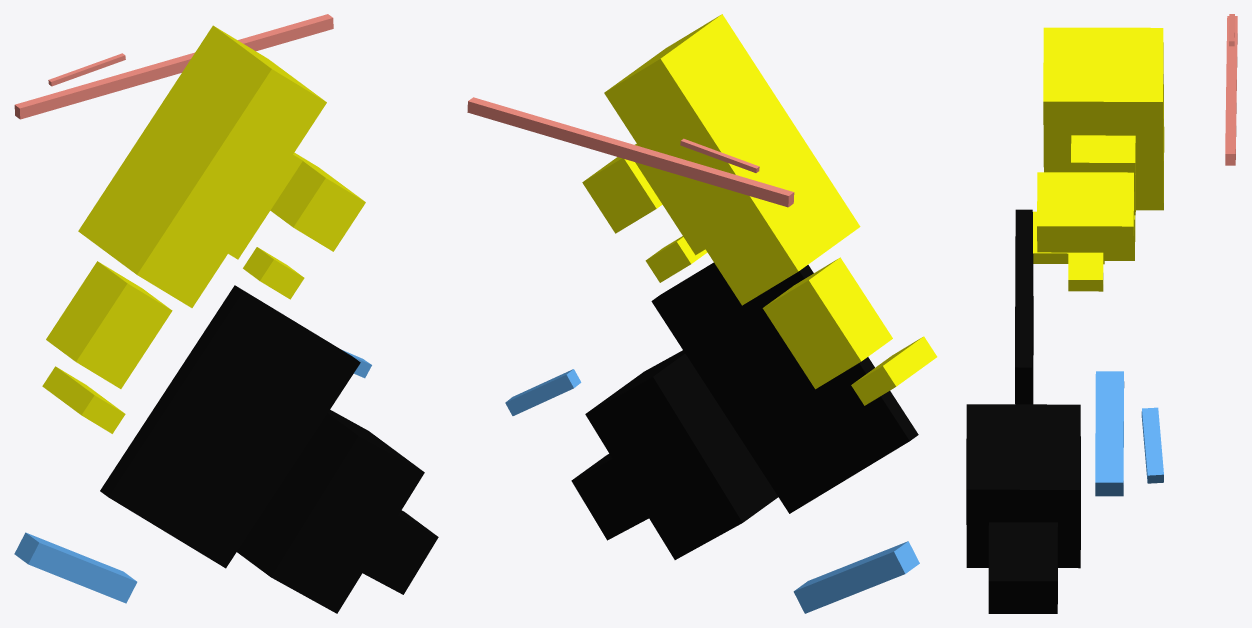
Rendered from malevitch_v5.glb.
3 views of the same model, side by side, from view 1: azimuth 30°, elevation 25°; view 2: azimuth 150°, elevation 25°; view 3: azimuth 270°, elevation 25° (orthographic). The views are drawn at different scales.
Parts seen in each view (by area): view 1: Noir, jaune_big, Noir.1, jaune_big.3, jaune_big.2, Rouge_dessous, Bleu, Noir.2, jaune_big.4, jaune_big.5, jaune_big.1, Rouge_dessus; view 2: jaune_big, Noir, Noir.1, jaune_big.3, Rouge_dessous, Bleu, jaune_big.2, Noir.2, jaune_big.4, Bleu.1, jaune_big.5, jaune_big.1 (+1 smaller); view 3: jaune_big, Noir.1, jaune_big.2, Noir.2, Noir, Bleu, jaune_big.1, Rouge_dessous, jaune_big.5, Bleu.1, jaune_big.4.
Part boxes in pixels (box(x1,y1,x2,y2)): Noir: box(100, 285, 360, 568); jaune_big: box(78, 25, 326, 307); Noir.1: box(237, 409, 424, 613); jaune_big.3: box(46, 261, 172, 388); jaune_big.2: box(270, 152, 365, 251); Rouge_dessous: box(14, 14, 333, 119); Bleu: box(14, 532, 137, 603); Noir.2: box(363, 510, 438, 594); jaune_big.4: box(42, 366, 125, 433); jaune_big.5: box(243, 247, 304, 299); jaune_big.1: box(228, 154, 302, 259); Rouge_dessus: box(48, 53, 125, 86); jaune_big: box(604, 14, 860, 305); Noir: box(651, 262, 918, 513); Noir.1: box(585, 350, 778, 559); jaune_big.3: box(762, 257, 892, 389); Rouge_dessous: box(467, 97, 794, 207); Bleu: box(793, 541, 919, 613); jaune_big.2: box(582, 143, 662, 233); Noir.2: box(571, 453, 648, 540); jaune_big.4: box(851, 336, 937, 405); Bleu.1: box(505, 369, 581, 415); jaune_big.5: box(645, 236, 707, 282); jaune_big.1: box(635, 162, 705, 255); jaune_big: box(1043, 27, 1164, 210); Noir.1: box(966, 404, 1080, 568); jaune_big.2: box(1037, 172, 1134, 252); Noir.2: box(988, 522, 1057, 613); Noir: box(1015, 209, 1033, 404); Bleu: box(1095, 371, 1124, 496); jaune_big.1: box(1071, 135, 1135, 215); Rouge_dessous: box(1225, 16, 1237, 165); jaune_big.5: box(1068, 252, 1103, 291); Bleu.1: box(1141, 407, 1163, 483); jaune_big.4: box(1033, 211, 1104, 264).
Size of the model in its own units: 347 by 476 by 219.
